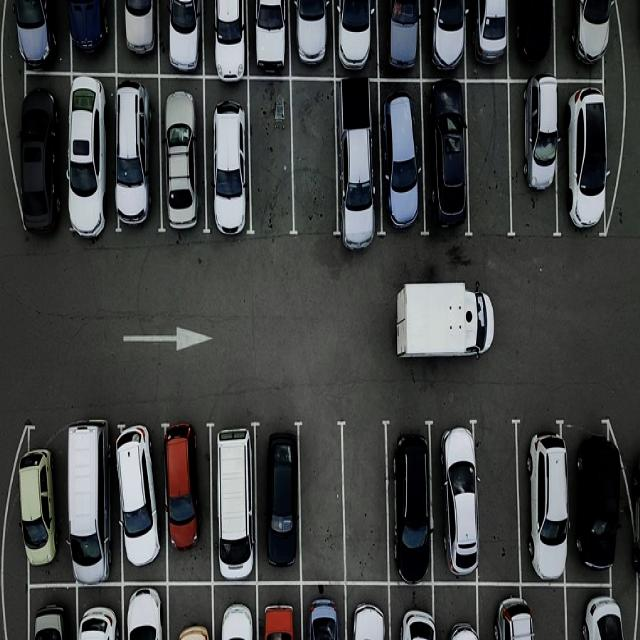empty: (473, 414, 524, 584), (340, 418, 390, 582), (463, 78, 512, 238), (247, 73, 295, 233), (299, 421, 342, 581), (296, 74, 336, 242), (164, 580, 216, 639), (522, 580, 570, 639)
occupied: (515, 414, 572, 586), (62, 69, 119, 238), (110, 422, 168, 584), (385, 417, 435, 584), (508, 78, 560, 237), (207, 424, 259, 582), (14, 429, 66, 586), (155, 73, 206, 233), (377, 75, 427, 237), (68, 427, 119, 583), (202, 75, 252, 233), (113, 77, 161, 230), (24, 72, 68, 226), (335, 86, 379, 239), (436, 418, 478, 578), (572, 415, 610, 590), (167, 421, 208, 583), (564, 81, 604, 236), (256, 426, 296, 578), (427, 81, 466, 236), (6, 1, 68, 76), (506, 0, 559, 82), (558, 0, 608, 81), (201, 0, 251, 78), (112, 0, 162, 76), (376, 0, 422, 81), (288, 0, 334, 78), (562, 582, 624, 639), (334, 0, 376, 79), (476, 582, 534, 639), (245, 0, 288, 75), (74, 580, 127, 639), (466, 0, 506, 78), (70, 0, 113, 70), (209, 580, 259, 639), (431, 582, 481, 639), (160, 0, 200, 70), (388, 580, 435, 639), (344, 580, 391, 639), (255, 580, 302, 639), (299, 580, 346, 639), (426, 0, 459, 81), (26, 582, 67, 640), (126, 586, 166, 640)
